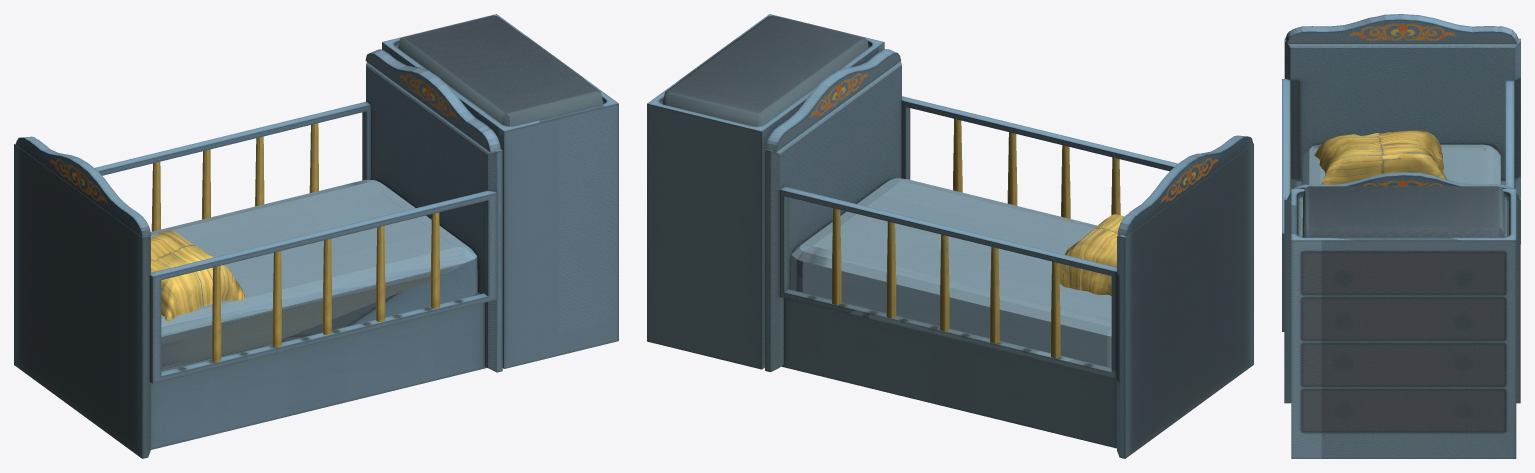
File: Baby bed.fbx
3 views of the same model, side by side, from view 1: azimuth 30°, elevation 25°; view 2: azimuth 150°, elevation 25°; view 3: azimuth 270°, elevation 25° (orthographic). The views are drawn at different scales.
Parts seen in each view (by area): view 1: Baby_Bed1; view 2: Baby_Bed1; view 3: Baby_Bed1.
Boxes of the visible parts, x1,y1,x2,y2 form: Baby_Bed1: (14,14,618,458); Baby_Bed1: (647,14,1253,458); Baby_Bed1: (1282,14,1520,458).
Bounding box in the file's own units: 154 × 76.34 × 72.
1 material, 1 textured.
